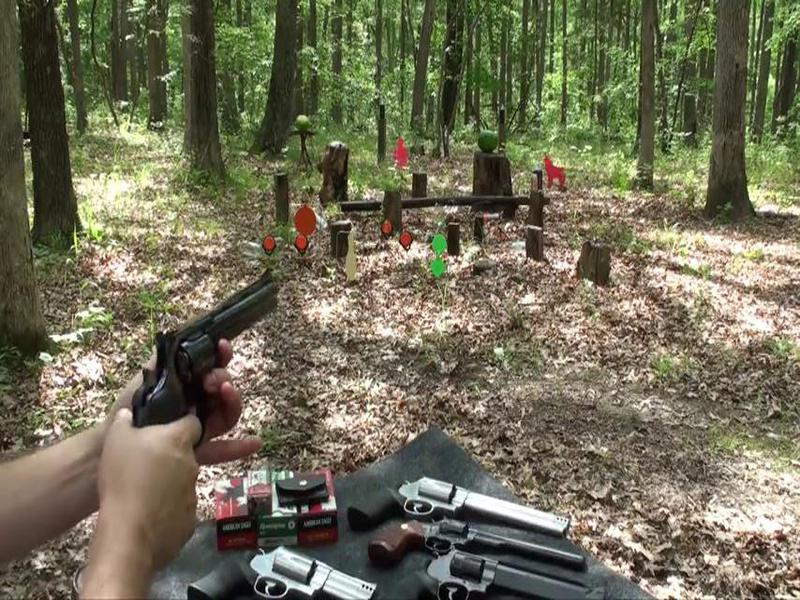Revolver: (117, 257, 299, 490)
